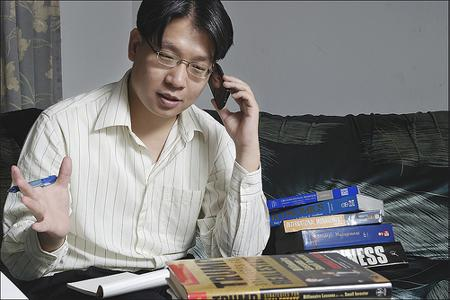person: (8, 3, 271, 283)
